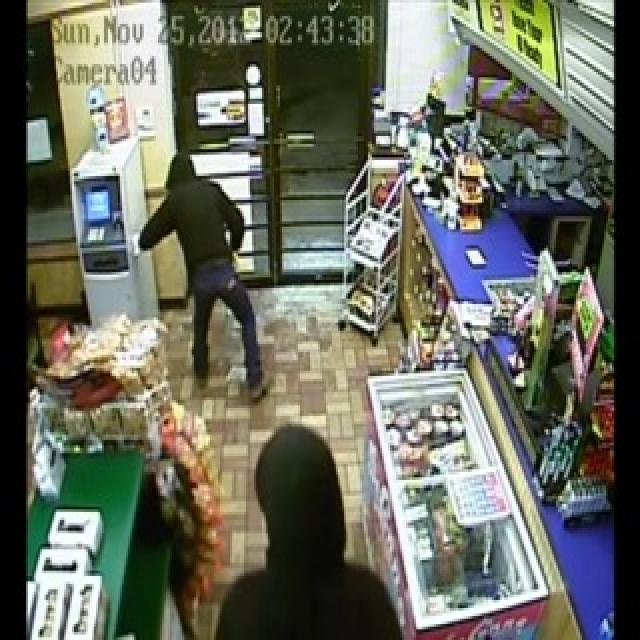thief: (208, 425, 400, 640), (144, 152, 275, 404)
